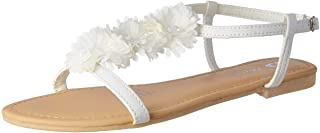shoes: (1, 1, 320, 132)
